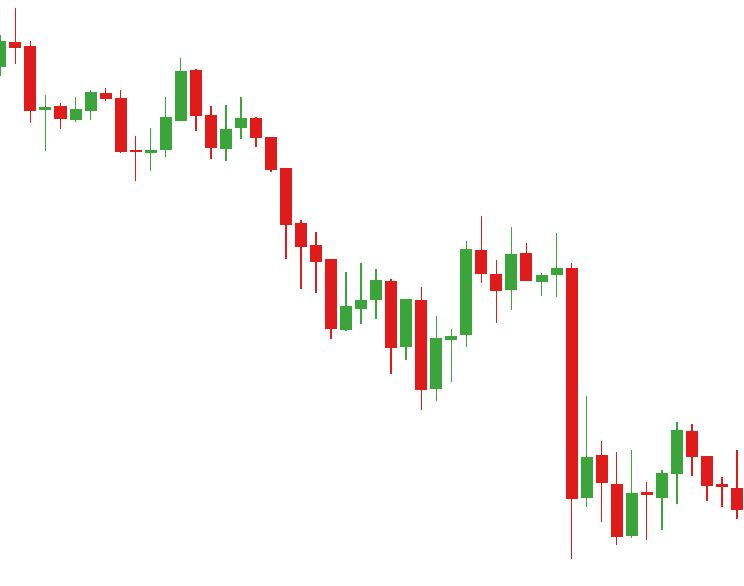sell: (354, 217, 502, 331), (84, 59, 203, 150)
